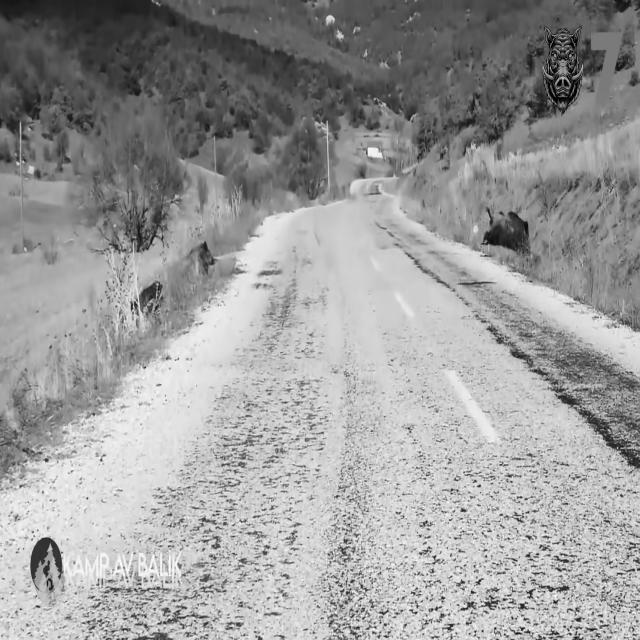boar: (482, 207, 528, 251), (181, 240, 213, 278), (128, 280, 164, 312)
